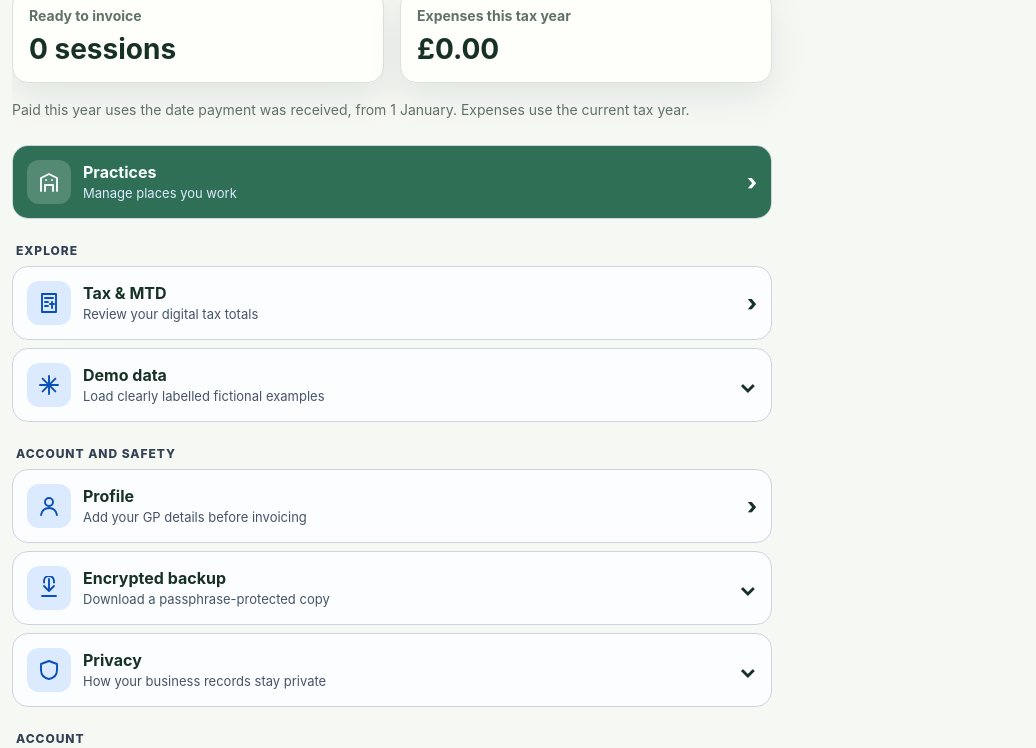
it: requires confirmation before removing only the demo data
(page scrolled)
Click the button "Demo data Load clearly labelled fictional examples ⌄" at (49,385), box [13,349,771,421]
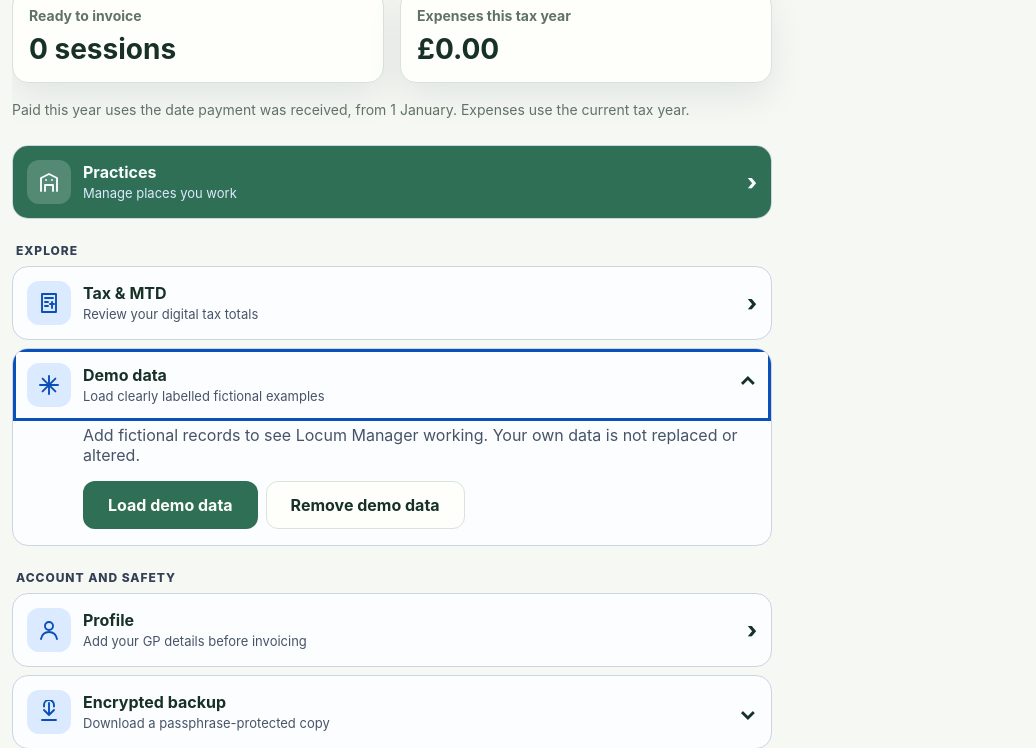
Click the button "Remove demo data" at (365,505), box [266,481,465,529]
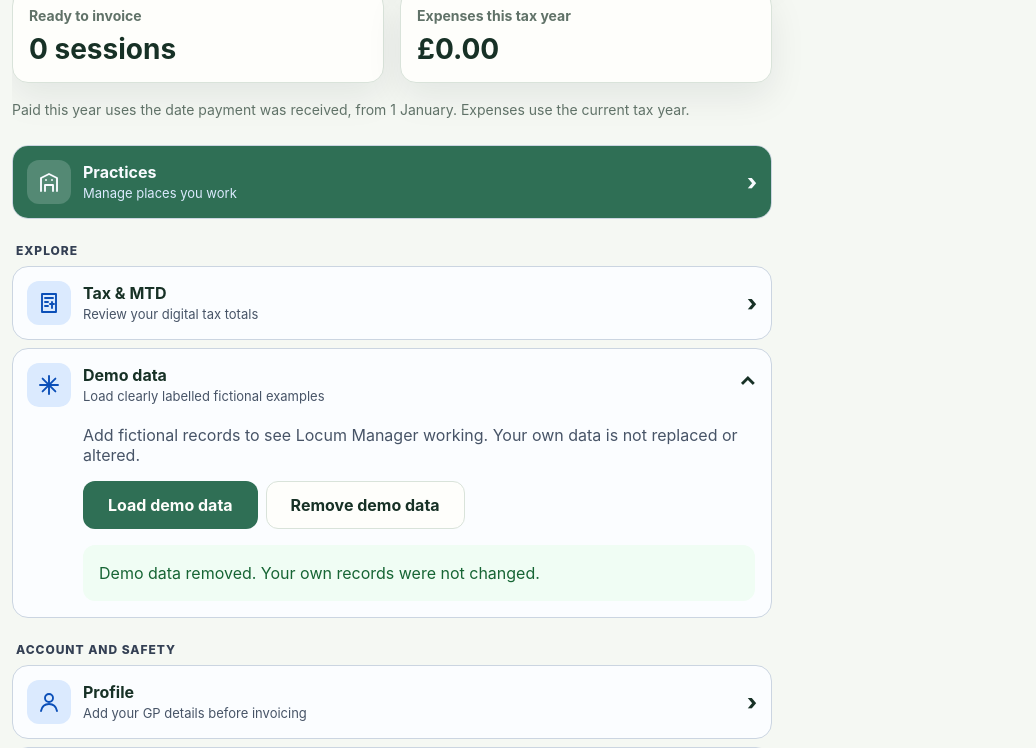
Now the message reads "Demo data removed. Your own records were not changed.", box [99,563,540,583]
